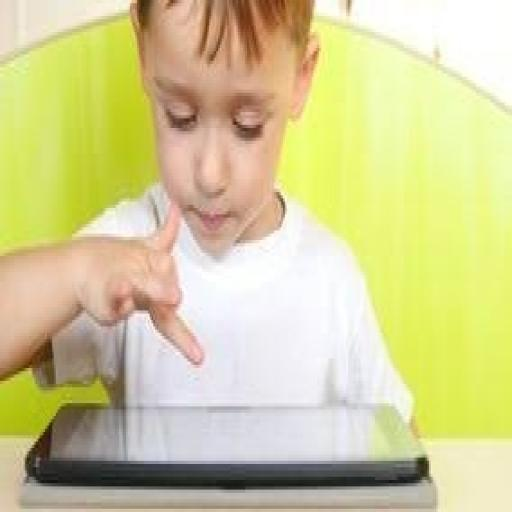using_laptop: (20, 397, 434, 496)
